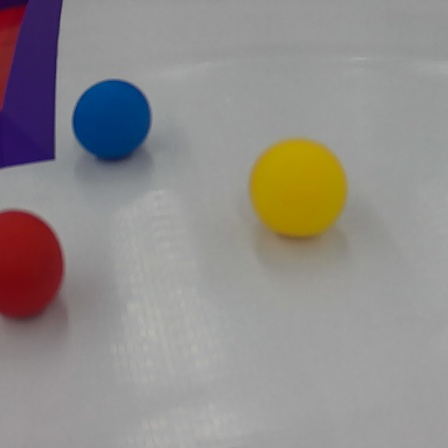blue: (75, 76, 151, 165)
red: (0, 204, 66, 325)
red_aim: (0, 0, 62, 169)
yellow: (251, 131, 350, 246)
